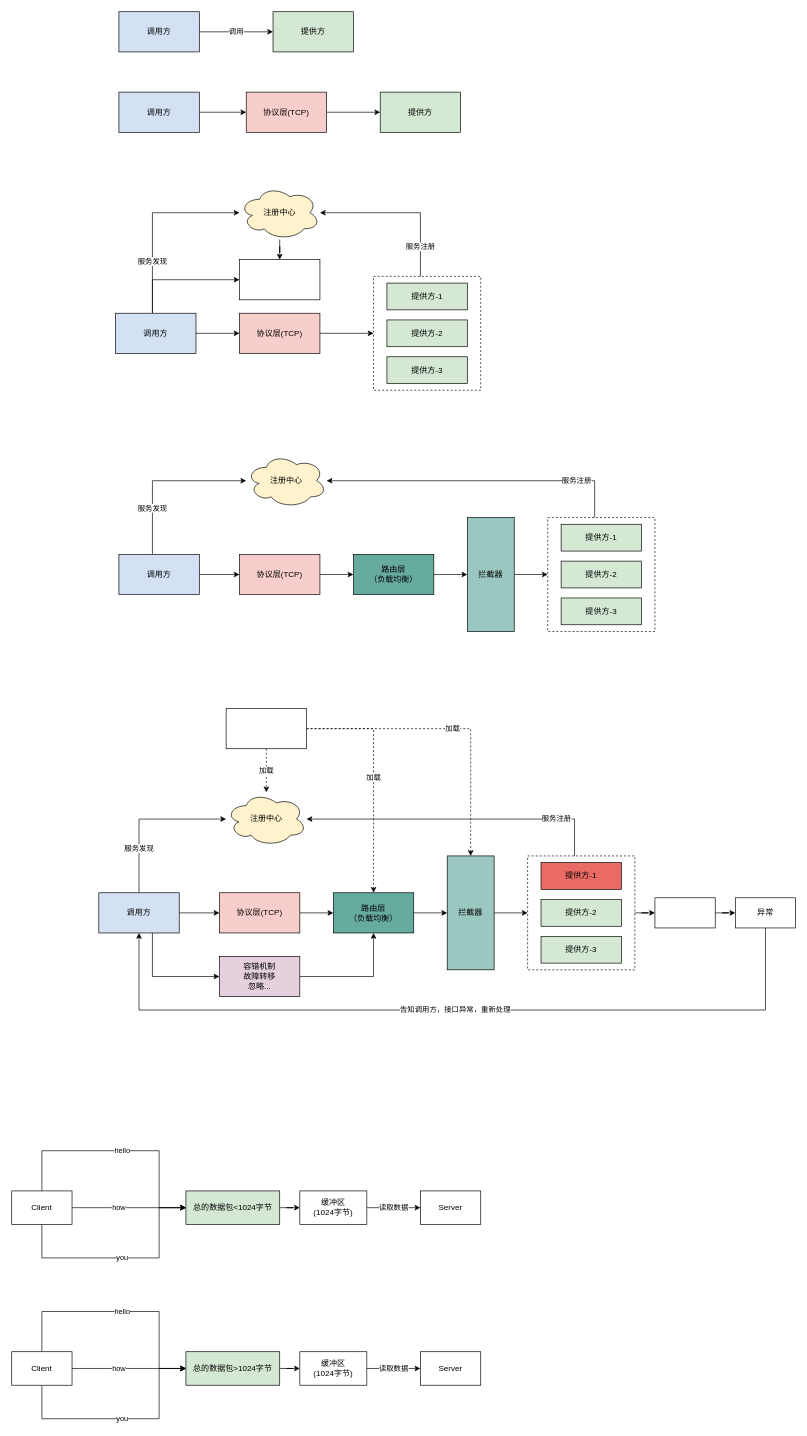
This 807x1436 diagram has some shape labels left out. The centre of each missing label's shape, as x and y in pixels:
"SPI" belongs at (266,728).
"执行任务" belongs at (684,912).
"本地缓存" belongs at (279,279).
